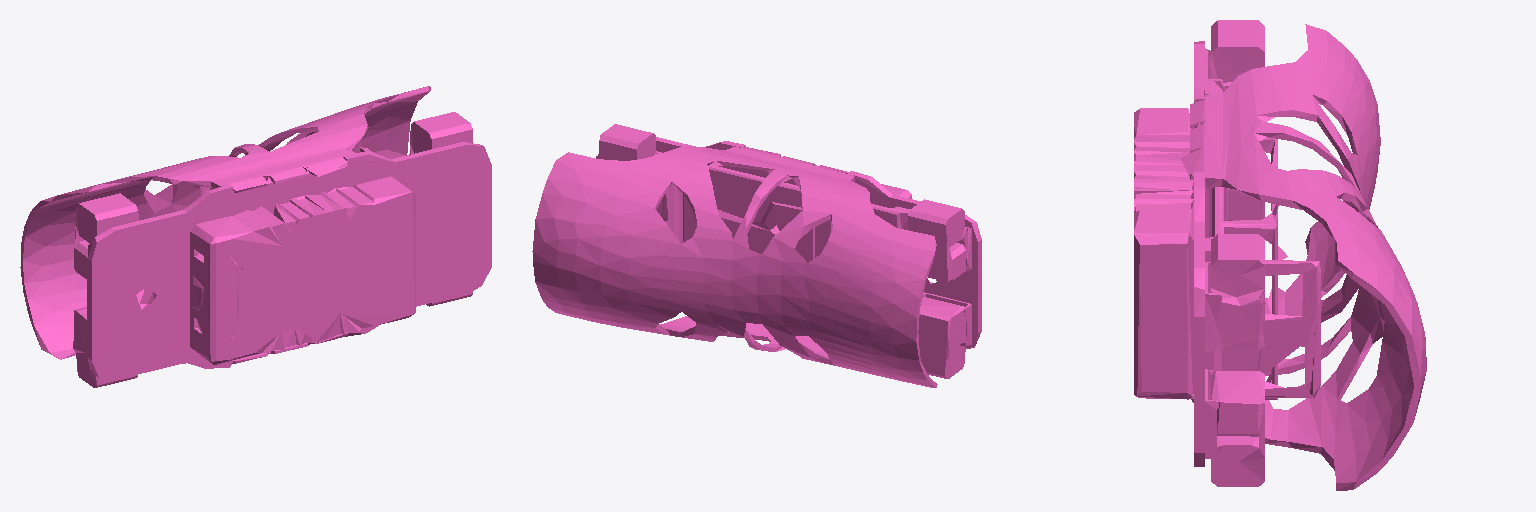
robot.urdf — CML_PP_2:
<?xml version="1.0" encoding="utf-8"?>
<!-- This URDF was automatically created by SolidWorks to URDF Exporter! Originally created by [author] ([email redacted]) 
     Commit Version: 1.5.1-0-g916b5db  Build Version: 1.5.7152.31018
     For more information, please see http://wiki.ros.org/sw_urdf_exporter -->
<robot
  name="CML_PP_2">
  <link
    name="base_link">
    <inertial>
      <origin
        xyz="0.00454071999132188 0.0652075601364906 -6.47897566883711E-05"
        rpy="0 0 0" />
      <mass
        value="0.140325255511383" />
      <inertia
        ixx="0.000366286276832393"
        ixy="-7.63809950386849E-05"
        ixz="-7.33485979630507E-08"
        iyy="0.00109187006228455"
        iyz="-5.95557864844877E-08"
        izz="0.000945919015213186" />
    </inertial>
    <visual>
      <origin
        xyz="0 0 0"
        rpy="0 0 0" />
      <geometry>
        <mesh
          filename="package://CML_PP_2/meshes/base_link.STL" />
      </geometry>
      <material
        name="">
        <color
          rgba="1 0.470588235294118 0.823529411764706 1" />
      </material>
    </visual>
    <collision>
      <origin
        xyz="0 0 0"
        rpy="0 0 0" />
      <geometry>
        <mesh
          filename="package://CML_PP_2/meshes/base_link.STL" />
      </geometry>
    </collision>
  </link>
  <link
    name="lf_shoulder_link">
    <inertial>
      <origin
        xyz="-0.03075 0.010763 0.045764"
        rpy="0 0 0" />
      <mass
        value="0.0824" />
      <inertia
        ixx="1.9553E-05"
        ixy="2.0818E-07"
        ixz="3.2177E-07"
        iyy="1.9067E-05"
        iyz="-9.6011E-07"
        izz="2.1806E-05" />
    </inertial>
    <visual>
      <origin
        xyz="0 0 0"
        rpy="0 0 0" />
      <geometry>
        <mesh
          filename="package://CML_PP_2/meshes/lf_shoulder_link.STL" />
      </geometry>
      <material
        name="">
        <color
          rgba="0.79216 0.81961 0.93333 1" />
      </material>
    </visual>
    <collision>
      <origin
        xyz="0 0 0"
        rpy="0 0 0" />
      <geometry>
        <mesh
          filename="package://CML_PP_2/meshes/lf_shoulder_link.STL" />
      </geometry>
    </collision>
  </link>
  <joint
    name="LF_ARMPIT"
    type="revolute">
    <origin
      xyz="0.086416 0.04808 0.020486"
      rpy="1.5666 -5.102E-05 3.1416" />
    <parent
      link="base_link" />
    <child
      link="lf_shoulder_link" />
    <axis
      xyz="1 -5.102E-05 0" />
    <limit
      lower="-1"
      upper="1.2"
      effort="10"
      velocity="0.188" />
  </joint>
  <link
    name="lf_thigh_link">
    <inertial>
      <origin
        xyz="0.0599963195132601 -0.0341838745475905 0.0323773610686816"
        rpy="0 0 0" />
      <mass
        value="0.204666877949787" />
      <inertia
        ixx="5.26405535315348E-05"
        ixy="-6.8704284753317E-06"
        ixz="-9.11945491837271E-09"
        iyy="0.000207700436426374"
        iyz="4.2930970887599E-10"
        izz="0.000196694952417644" />
    </inertial>
    <visual>
      <origin
        xyz="0 0 0"
        rpy="0 0 0" />
      <geometry>
        <mesh
          filename="package://CML_PP_2/meshes/lf_thigh_link.STL" />
      </geometry>
      <material
        name="">
        <color
          rgba="0.792156862745098 0.819607843137255 0.933333333333333 1" />
      </material>
    </visual>
    <collision>
      <origin
        xyz="0 0 0"
        rpy="0 0 0" />
      <geometry>
        <mesh
          filename="package://CML_PP_2/meshes/lf_thigh_link.STL" />
      </geometry>
    </collision>
  </link>
  <joint
    name="LF_ELBOW"
    type="revolute">
    <origin
      xyz="-0.029275 -0.014657 0.021201"
      rpy="0 0 -0.43549" />
    <parent
      link="lf_shoulder_link" />
    <child
      link="lf_thigh_link" />
    <axis
      xyz="0 0 1" />
    <limit
      lower="0"
      upper="0"
      effort="0"
      velocity="0" />
  </joint>
  <link
    name="lf_calf_link">
    <inertial>
      <origin
        xyz="-0.0562746607594241 -0.0312019222312566 0.0300902624876031"
        rpy="0 0 0" />
      <mass
        value="0.124150378027878" />
      <inertia
        ixx="2.71331254270731E-05"
        ixy="6.52330853460604E-06"
        ixz="-6.70500134135691E-09"
        iyy="0.000259455346859976"
        iyz="3.49049560417254E-09"
        izz="0.000248912943667171" />
    </inertial>
    <visual>
      <origin
        xyz="0 0 0"
        rpy="0 0 0" />
      <geometry>
        <mesh
          filename="package://CML_PP_2/meshes/lf_calf_link.STL" />
      </geometry>
      <material
        name="">
        <color
          rgba="0.792156862745098 0.819607843137255 0.933333333333333 1" />
      </material>
    </visual>
    <collision>
      <origin
        xyz="0 0 0"
        rpy="0 0 0" />
      <geometry>
        <mesh
          filename="package://CML_PP_2/meshes/lf_calf_link.STL" />
      </geometry>
    </collision>
  </link>
  <joint
    name="LF_KNEE"
    type="revolute">
    <origin
      xyz="0.14707 -0.034829 0.0022602"
      rpy="0 0 0.93771" />
    <parent
      link="lf_thigh_link" />
    <child
      link="lf_calf_link" />
    <axis
      xyz="0 0 1" />
    <limit
      lower="0"
      upper="0"
      effort="0"
      velocity="0" />
  </joint>
  <link
    name="rf_shoulder_link">
    <inertial>
      <origin
        xyz="-0.0308384266119752 0.0107591399959096 -0.0455633350384645"
        rpy="0 0 0" />
      <mass
        value="0.0823973983278599" />
      <inertia
        ixx="1.95529735579707E-05"
        ixy="2.08060114847763E-07"
        ixz="-3.21733563476553E-07"
        iyy="1.90663268901384E-05"
        iyz="9.72946409374894E-07"
        izz="2.18055627830236E-05" />
    </inertial>
    <visual>
      <origin
        xyz="0 0 0"
        rpy="0 0 0" />
      <geometry>
        <mesh
          filename="package://CML_PP_2/meshes/rf_shoulder_link.STL" />
      </geometry>
      <material
        name="">
        <color
          rgba="0.792156862745098 0.819607843137255 0.933333333333333 1" />
      </material>
    </visual>
    <collision>
      <origin
        xyz="0 0 0"
        rpy="0 0 0" />
      <geometry>
        <mesh
          filename="package://CML_PP_2/meshes/rf_shoulder_link.STL" />
      </geometry>
    </collision>
  </link>
  <joint
    name="RF_ARMPIT"
    type="revolute">
    <origin
      xyz="0.086926 -0.04808 0.020486"
      rpy="1.5736 5.102E-05 3.1416" />
    <parent
      link="base_link" />
    <child
      link="rf_shoulder_link" />
    <axis
      xyz="1 5.102E-05 0" />
    <limit
      lower="0"
      upper="0"
      effort="0"
      velocity="0" />
  </joint>
  <link
    name="rf_thigh_link">
    <inertial>
      <origin
        xyz="0.059996319544716 -0.0341838862880749 -0.0326354177099718"
        rpy="0 0 0" />
      <mass
        value="0.204666659119259" />
      <inertia
        ixx="5.26405020771446E-05"
        ixy="-6.87045925823285E-06"
        ixz="-9.16134381790125E-09"
        iyy="0.000207700318237006"
        iyz="4.24645067196462E-10"
        izz="0.000196694737864689" />
    </inertial>
    <visual>
      <origin
        xyz="0 0 0"
        rpy="0 0 0" />
      <geometry>
        <mesh
          filename="package://CML_PP_2/meshes/rf_thigh_link.STL" />
      </geometry>
      <material
        name="">
        <color
          rgba="0.792156862745098 0.819607843137255 0.933333333333333 1" />
      </material>
    </visual>
    <collision>
      <origin
        xyz="0 0 0"
        rpy="0 0 0" />
      <geometry>
        <mesh
          filename="package://CML_PP_2/meshes/rf_thigh_link.STL" />
      </geometry>
    </collision>
  </link>
  <joint
    name="RF_ELBOW"
    type="revolute">
    <origin
      xyz="-0.029276 -0.01466 -0.020328"
      rpy="0 0 -0.42784" />
    <parent
      link="rf_shoulder_link" />
    <child
      link="rf_thigh_link" />
    <axis
      xyz="0 0 1" />
    <limit
      lower="0"
      upper="0"
      effort="0"
      velocity="0" />
  </joint>
  <link
    name="rf_calf_link">
    <inertial>
      <origin
        xyz="-0.0562746594086836 -0.031201912312426 -0.0304061026125255"
        rpy="0 0 0" />
      <mass
        value="0.124150283030027" />
      <inertia
        ixx="2.71331044981176E-05"
        ixy="6.52340639611651E-06"
        ixz="-7.24574922911349E-09"
        iyy="0.000259454989110842"
        iyz="3.51796278658808E-09"
        izz="0.000248912583960562" />
    </inertial>
    <visual>
      <origin
        xyz="0 0 0"
        rpy="0 0 0" />
      <geometry>
        <mesh
          filename="package://CML_PP_2/meshes/rf_calf_link.STL" />
      </geometry>
      <material
        name="">
        <color
          rgba="0.792156862745098 0.819607843137255 0.933333333333333 1" />
      </material>
    </visual>
    <collision>
      <origin
        xyz="0 0 0"
        rpy="0 0 0" />
      <geometry>
        <mesh
          filename="package://CML_PP_2/meshes/rf_calf_link.STL" />
      </geometry>
    </collision>
  </link>
  <joint
    name="RF_KNEE"
    type="revolute">
    <origin
      xyz="0.14707 -0.034829 -0.0017563"
      rpy="0 0 0.93378" />
    <parent
      link="rf_thigh_link" />
    <child
      link="rf_calf_link" />
    <axis
      xyz="0 0 1" />
    <limit
      lower="0"
      upper="0"
      effort="0"
      velocity="0" />
  </joint>
  <link
    name="lb_shoulder_link">
    <inertial>
      <origin
        xyz="0.0268112424173798 0.0107596960598041 0.0457636308417059"
        rpy="0 0 0" />
      <mass
        value="0.0823995961404889" />
      <inertia
        ixx="1.95534937544981E-05"
        ixy="2.08177132098458E-07"
        ixz="3.21769091341543E-07"
        iyy="1.90668948433689E-05"
        iyz="-9.60105437391402E-07"
        izz="2.18057213002159E-05" />
    </inertial>
    <visual>
      <origin
        xyz="0 0 0"
        rpy="0 0 0" />
      <geometry>
        <mesh
          filename="package://CML_PP_2/meshes/lb_shoulder_link.STL" />
      </geometry>
      <material
        name="">
        <color
          rgba="0.792156862745098 0.819607843137255 0.933333333333333 1" />
      </material>
    </visual>
    <collision>
      <origin
        xyz="0 0 0"
        rpy="0 0 0" />
      <geometry>
        <mesh
          filename="package://CML_PP_2/meshes/lb_shoulder_link.STL" />
      </geometry>
    </collision>
  </link>
  <joint
    name="LB_ARMPIT"
    type="revolute">
    <origin
      xyz="-0.090843 0.04808 0.020486"
      rpy="1.5668 -5.102E-05 -3.1416" />
    <parent
      link="base_link" />
    <child
      link="lb_shoulder_link" />
    <axis
      xyz="1 -5.102E-05 0" />
    <limit
      lower="0"
      upper="0"
      effort="0"
      velocity="0" />
  </joint>
  <link
    name="lb_thigh_link">
    <inertial>
      <origin
        xyz="0.0599962531882521 -0.0341838743931865 0.0323774662751334"
        rpy="0 0 0" />
      <mass
        value="0.204667094970786" />
      <inertia
        ixx="5.26405893727808E-05"
        ixy="-6.87037873543066E-06"
        ixz="-9.16501184768238E-09"
        iyy="0.000207700430481537"
        iyz="4.05445574988923E-10"
        izz="0.00019669493307742" />
    </inertial>
    <visual>
      <origin
        xyz="0 0 0"
        rpy="0 0 0" />
      <geometry>
        <mesh
          filename="package://CML_PP_2/meshes/lb_thigh_link.STL" />
      </geometry>
      <material
        name="">
        <color
          rgba="0.792156862745098 0.819607843137255 0.933333333333333 1" />
      </material>
    </visual>
    <collision>
      <origin
        xyz="0 0 0"
        rpy="0 0 0" />
      <geometry>
        <mesh
          filename="package://CML_PP_2/meshes/lb_thigh_link.STL" />
      </geometry>
    </collision>
  </link>
  <joint
    name="LB_ELBOW"
    type="revolute">
    <origin
      xyz="0.028287 -0.014659 0.021201"
      rpy="0 0 -0.46494" />
    <parent
      link="lb_shoulder_link" />
    <child
      link="lb_thigh_link" />
    <axis
      xyz="0 0 1" />
    <limit
      lower="0"
      upper="0"
      effort="0"
      velocity="0" />
  </joint>
  <link
    name="lb_calf_link">
    <inertial>
      <origin
        xyz="-0.0562746283337435 -0.0312019131985416 0.0300903536116096"
        rpy="0 0 0" />
      <mass
        value="0.124150345082354" />
      <inertia
        ixx="2.71331212983521E-05"
        ixy="6.52346284637176E-06"
        ixz="-6.71092220781009E-09"
        iyy="0.000259455087280996"
        iyz="3.48846832947796E-09"
        izz="0.000248912689473426" />
    </inertial>
    <visual>
      <origin
        xyz="0 0 0"
        rpy="0 0 0" />
      <geometry>
        <mesh
          filename="package://CML_PP_2/meshes/lb_calf_link.STL" />
      </geometry>
      <material
        name="">
        <color
          rgba="0.792156862745098 0.819607843137255 0.933333333333333 1" />
      </material>
    </visual>
    <collision>
      <origin
        xyz="0 0 0"
        rpy="0 0 0" />
      <geometry>
        <mesh
          filename="package://CML_PP_2/meshes/lb_calf_link.STL" />
      </geometry>
    </collision>
  </link>
  <joint
    name="LB_KNEE"
    type="revolute">
    <origin
      xyz="0.14707 -0.034829 0.0022602"
      rpy="0 0 0.97678" />
    <parent
      link="lb_thigh_link" />
    <child
      link="lb_calf_link" />
    <axis
      xyz="0 0 1" />
    <limit
      lower="0"
      upper="0"
      effort="0"
      velocity="0" />
  </joint>
  <link
    name="rb_shoulder_link">
    <inertial>
      <origin
        xyz="0.0267231655282443 0.010762075261042 -0.0455633379422673"
        rpy="0 0 0" />
      <mass
        value="0.0823973934424499" />
      <inertia
        ixx="1.95529733228597E-05"
        ixy="2.08060157237355E-07"
        ixz="-3.21734054822652E-07"
        iyy="1.90663267893416E-05"
        iyz="9.72946591497496E-07"
        izz="2.18055626025945E-05" />
    </inertial>
    <visual>
      <origin
        xyz="0 0 0"
        rpy="0 0 0" />
      <geometry>
        <mesh
          filename="package://CML_PP_2/meshes/rb_shoulder_link.STL" />
      </geometry>
      <material
        name="">
        <color
          rgba="0.792156862745098 0.819607843137255 0.933333333333333 1" />
      </material>
    </visual>
    <collision>
      <origin
        xyz="0 0 0"
        rpy="0 0 0" />
      <geometry>
        <mesh
          filename="package://CML_PP_2/meshes/rb_shoulder_link.STL" />
      </geometry>
    </collision>
  </link>
  <joint
    name="RB_ARMPIT"
    type="revolute">
    <origin
      xyz="-0.090333 -0.04808 0.020486"
      rpy="1.5701 5.102E-05 -3.1416" />
    <parent
      link="base_link" />
    <child
      link="rb_shoulder_link" />
    <axis
      xyz="1 5.102E-05 0" />
    <limit
      lower="0"
      upper="0"
      effort="0"
      velocity="0" />
  </joint>
  <link
    name="rb_thigh_link">
    <inertial>
      <origin
        xyz="0.0599962641867017 -0.0341838839492449 -0.0322633194933277"
        rpy="0 0 0" />
      <mass
        value="0.204666926145609" />
      <inertia
        ixx="5.26405352597993E-05"
        ixy="-6.87043903505302E-06"
        ixz="-9.13736190376255E-09"
        iyy="0.000207700313943162"
        iyz="3.89261437438861E-10"
        izz="0.000196694776060325" />
    </inertial>
    <visual>
      <origin
        xyz="0 0 0"
        rpy="0 0 0" />
      <geometry>
        <mesh
          filename="package://CML_PP_2/meshes/rb_thigh_link.STL" />
      </geometry>
      <material
        name="">
        <color
          rgba="0.792156862745098 0.819607843137255 0.933333333333333 1" />
      </material>
    </visual>
    <collision>
      <origin
        xyz="0 0 0"
        rpy="0 0 0" />
      <geometry>
        <mesh
          filename="package://CML_PP_2/meshes/rb_thigh_link.STL" />
      </geometry>
    </collision>
  </link>
  <joint
    name="RB_ELBOW"
    type="revolute">
    <origin
      xyz="0.028285 -0.014657 -0.0207"
      rpy="0 0 -0.46283" />
    <parent
      link="rb_shoulder_link" />
    <child
      link="rb_thigh_link" />
    <axis
      xyz="0 0 1" />
    <limit
      lower="0"
      upper="0"
      effort="0"
      velocity="0" />
  </joint>
  <link
    name="rb_calf_link">
    <inertial>
      <origin
        xyz="-0.0562746202737299 -0.031201906093811 -0.0300128862017215"
        rpy="0 0 0" />
      <mass
        value="0.124150292571281" />
      <inertia
        ixx="2.71331103837322E-05"
        ixy="6.52354994917408E-06"
        ixz="-6.97162935785568E-09"
        iyy="0.000259454856699454"
        iyz="3.50104288566227E-09"
        izz="0.0002489124593" />
    </inertial>
    <visual>
      <origin
        xyz="0 0 0"
        rpy="0 0 0" />
      <geometry>
        <mesh
          filename="package://CML_PP_2/meshes/rb_calf_link.STL" />
      </geometry>
      <material
        name="">
        <color
          rgba="0.792156862745098 0.819607843137255 0.933333333333333 1" />
      </material>
    </visual>
    <collision>
      <origin
        xyz="0 0 0"
        rpy="0 0 0" />
      <geometry>
        <mesh
          filename="package://CML_PP_2/meshes/rb_calf_link.STL" />
      </geometry>
    </collision>
  </link>
  <joint
    name="RB_KNEE"
    type="revolute">
    <origin
      xyz="0.14707 -0.034829 -0.0017774"
      rpy="0 0 0.9789" />
    <parent
      link="rb_thigh_link" />
    <child
      link="rb_calf_link" />
    <axis
      xyz="0 0 1" />
    <limit
      lower="0"
      upper="0"
      effort="0"
      velocity="0" />
  </joint>
</robot>

--- What the picture shows (computed from the rendered views, not written in the file) ---
The picture shows the robot from 3 angles, left to right: view 1: azimuth 30°, elevation 25°; view 2: azimuth 150°, elevation 25°; view 3: azimuth 270°, elevation 25°; orthographic projection.
Robot: CML_PP_2 — 13 links, 12 joints (12 revolute); root link base_link; default pose: every joint at zero.
Visible links, largest first — view 1: base_link; view 2: base_link; view 3: base_link.
Boxes of the visible links, x1,y1,x2,y2 form: base_link: (20, 86, 491, 387); base_link: (532, 124, 981, 387); base_link: (1134, 20, 1426, 490).
Bounding box of the posed robot: 281 × 136 × 129 m (x, y, z).
Meshes: 13 distinct files referenced, 2 mesh visuals loaded (2 binary STL); not drawn: 11 (reference not matched to a file when rendering).